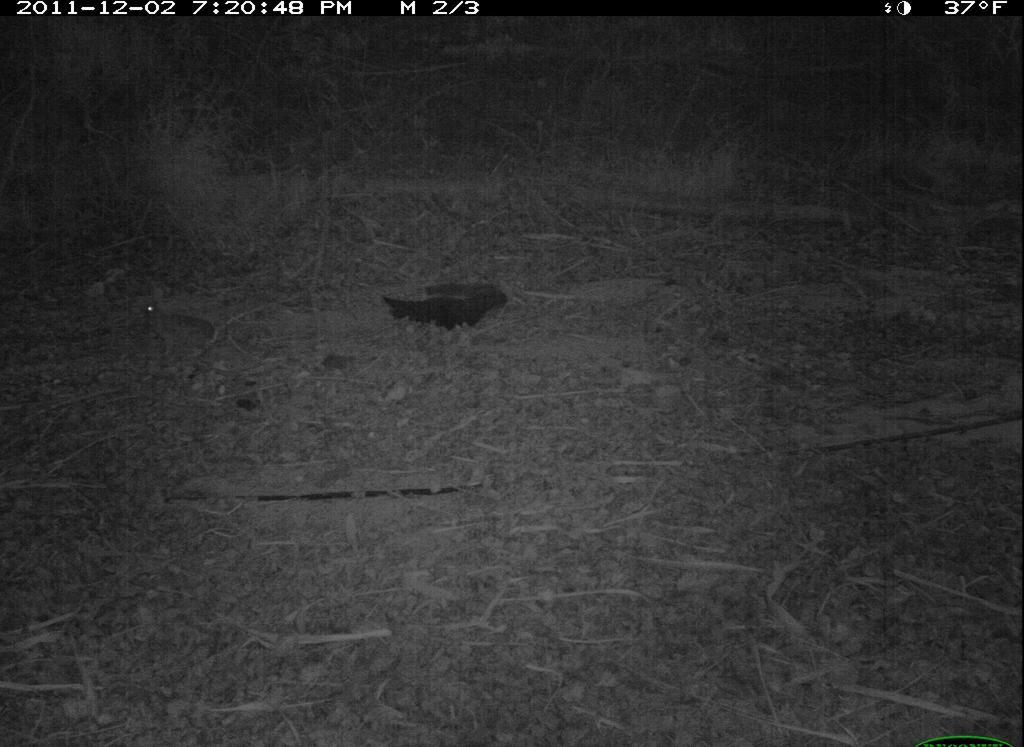rabbit: (125, 291, 227, 361)
